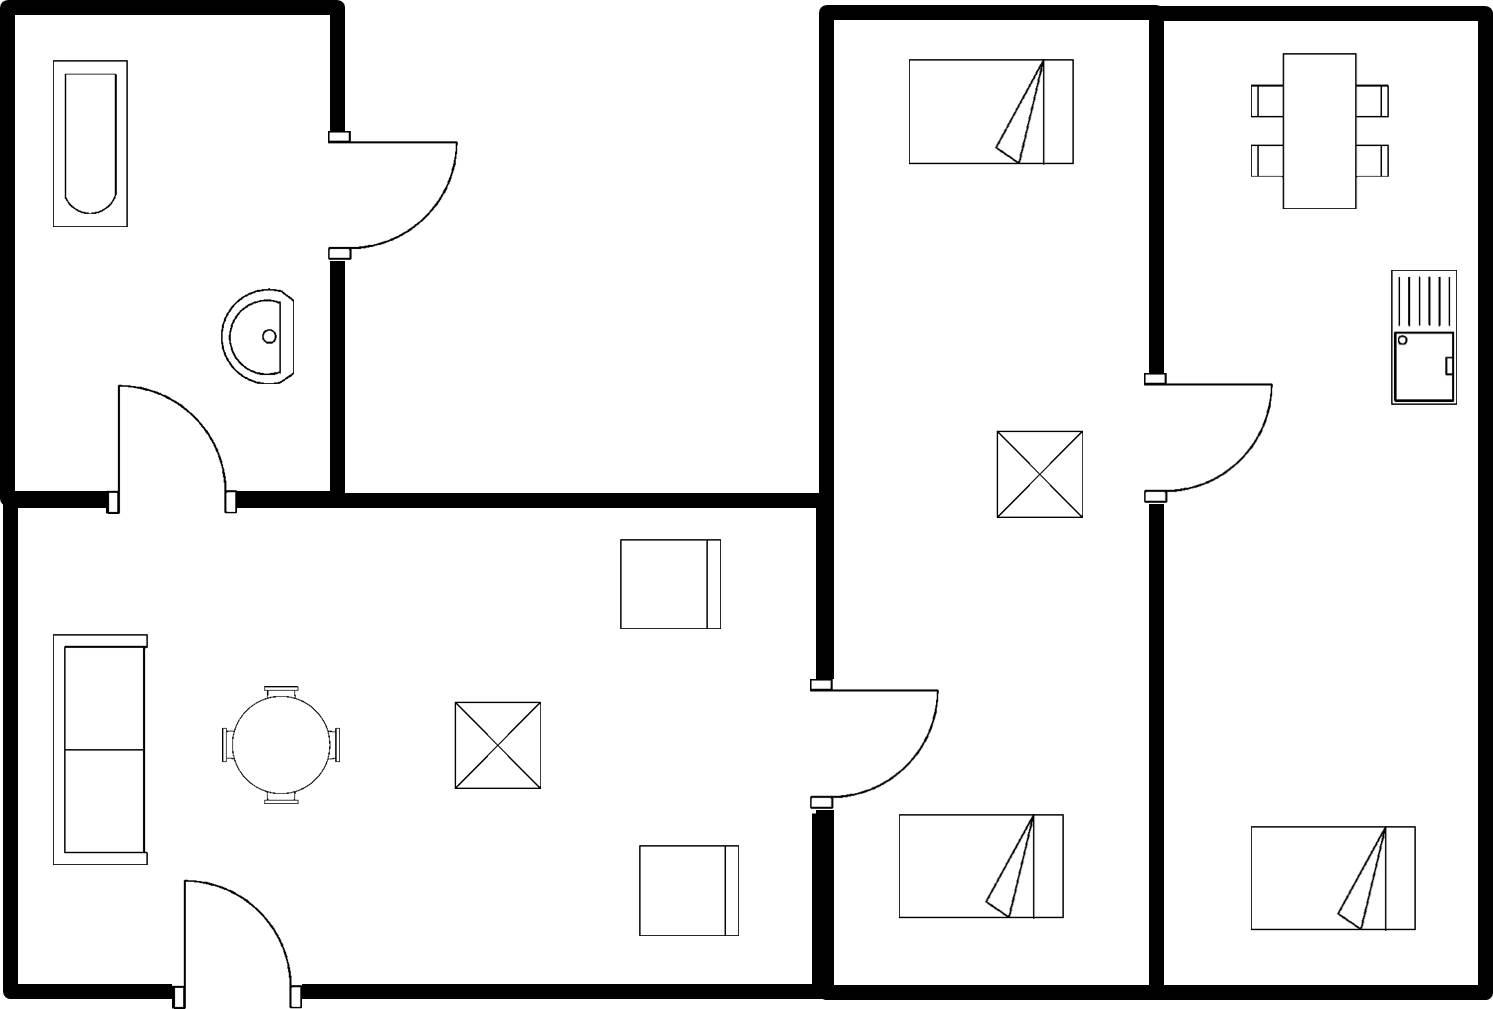bed: (891, 804, 1072, 926), (1241, 820, 1422, 936), (904, 52, 1079, 170)
dining_table: (1239, 42, 1398, 217)
round_table: (211, 675, 349, 810)
sink: (1383, 259, 1463, 414)
sofa: (46, 623, 155, 870)
tub: (44, 53, 134, 235)
